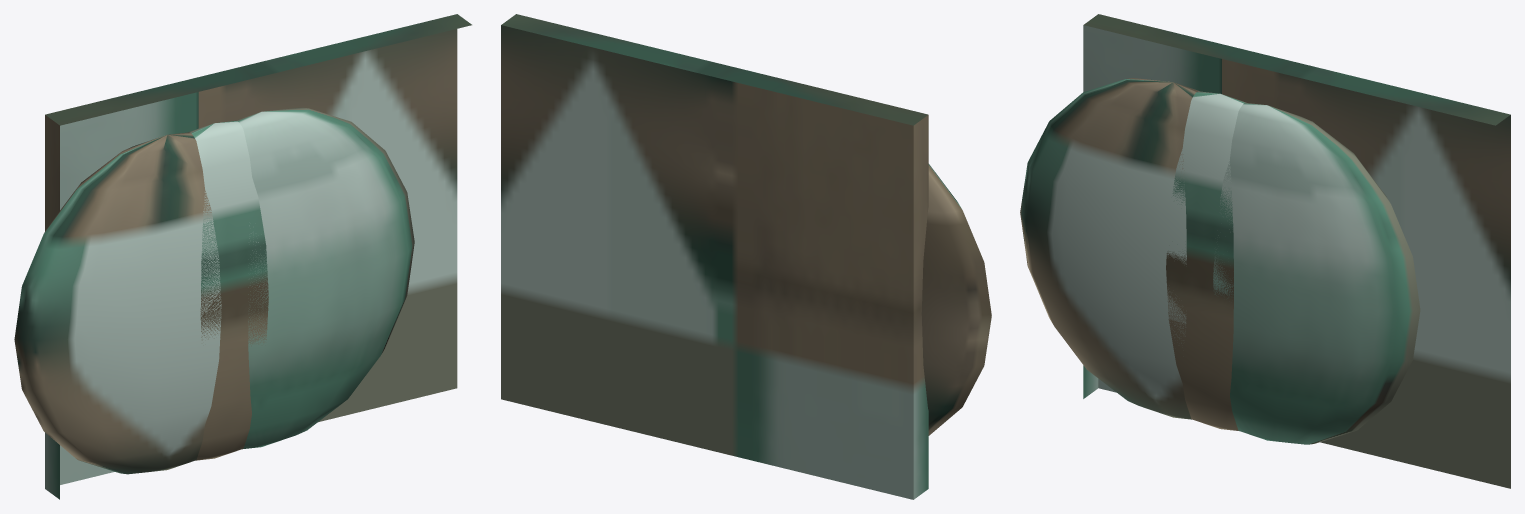
Rendered from section-4.obj.
The picture shows the model from 3 angles, left to right: view 1: azimuth 30°, elevation 25°; view 2: azimuth 150°, elevation 25°; view 3: azimuth 330°, elevation 25°; orthographic projection.
Size of the model in its own units: 1.1 by 0.8398 by 0.1793.
